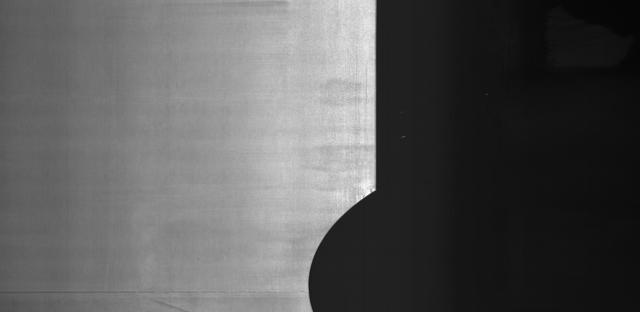crescent_gap: (298, 186, 399, 311)
welding_line: (1, 275, 314, 298)
